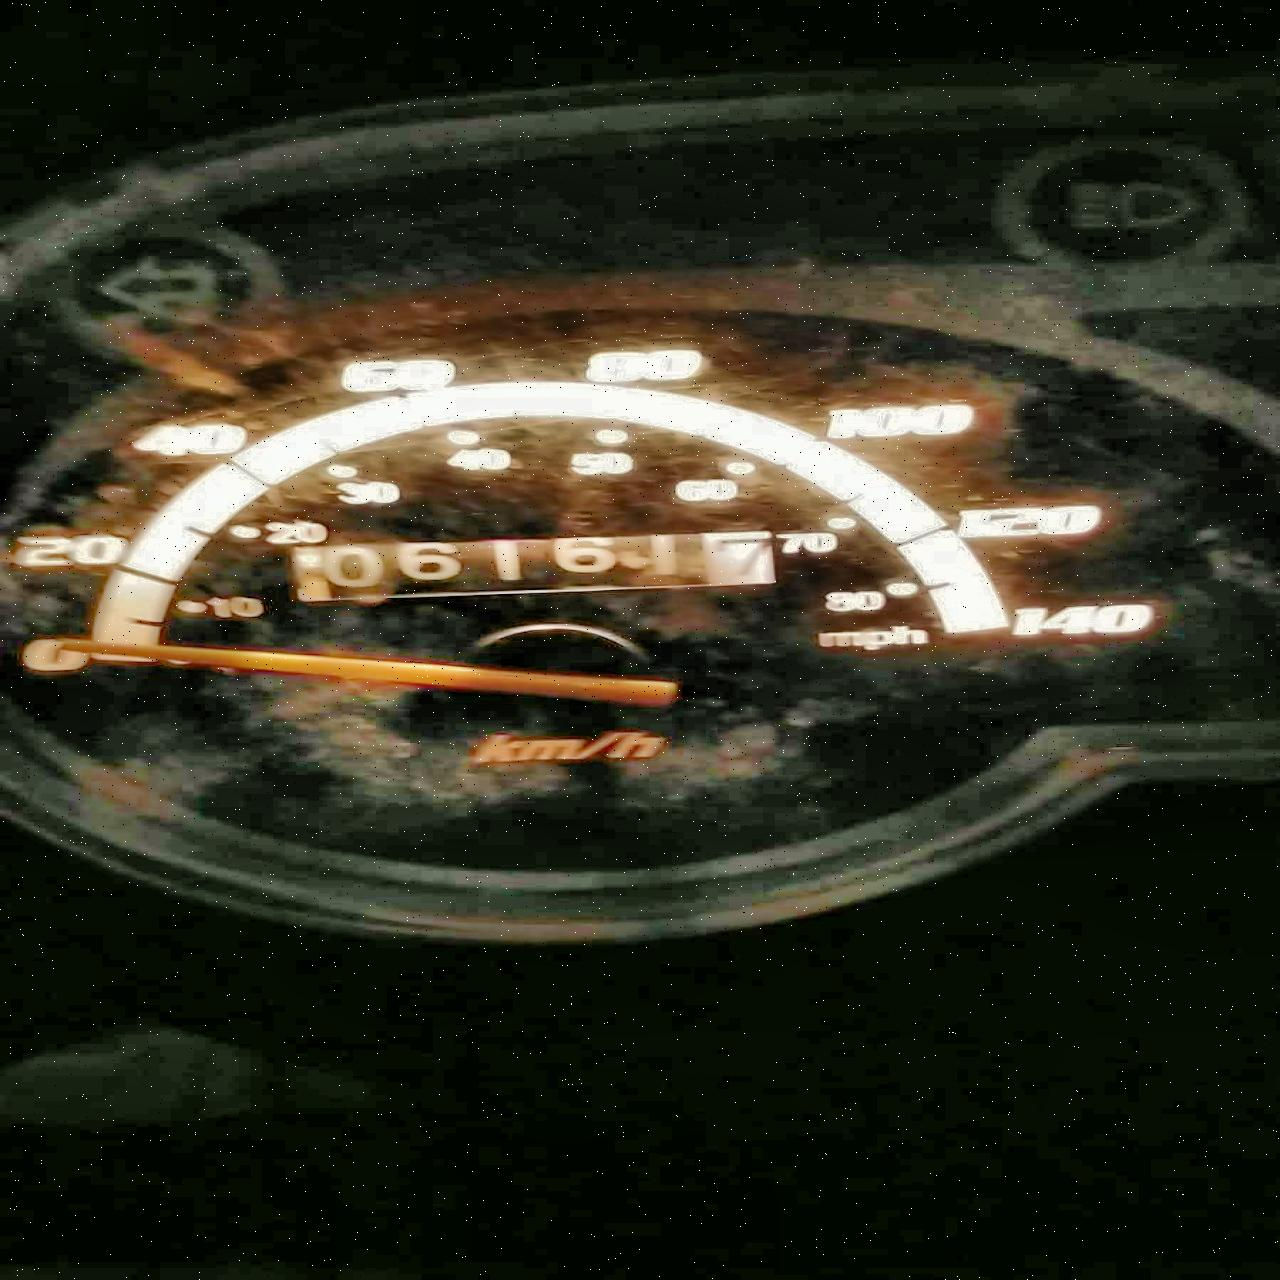0: (318, 544, 388, 593), (297, 520, 335, 544)
1: (644, 529, 689, 592), (484, 532, 527, 593)
6: (396, 538, 463, 583), (550, 531, 617, 572)
7: (714, 532, 775, 581), (776, 527, 806, 557)
odometer: (286, 526, 796, 604)
